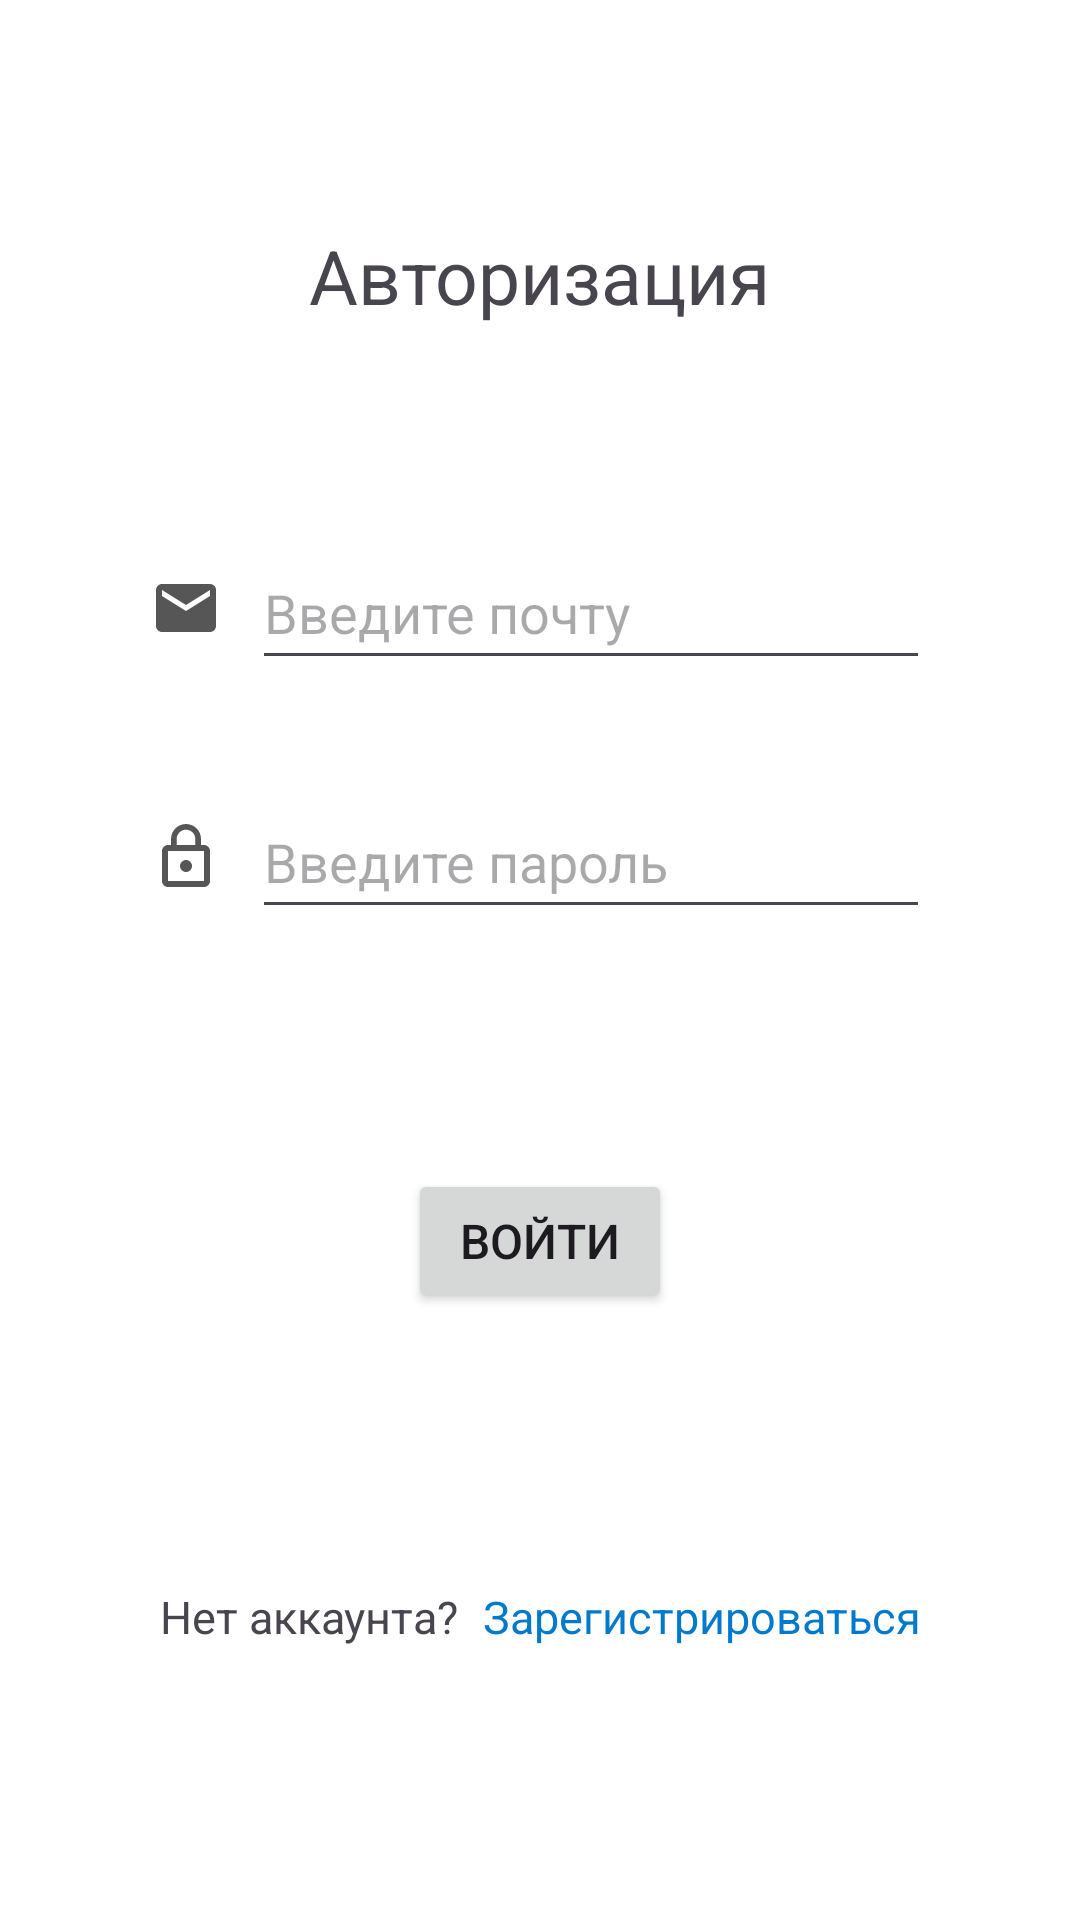

Icon click points for this 1080 x 1920 phone screenshot, format (x,y):
email: (186,608)
lock: (186,855)
